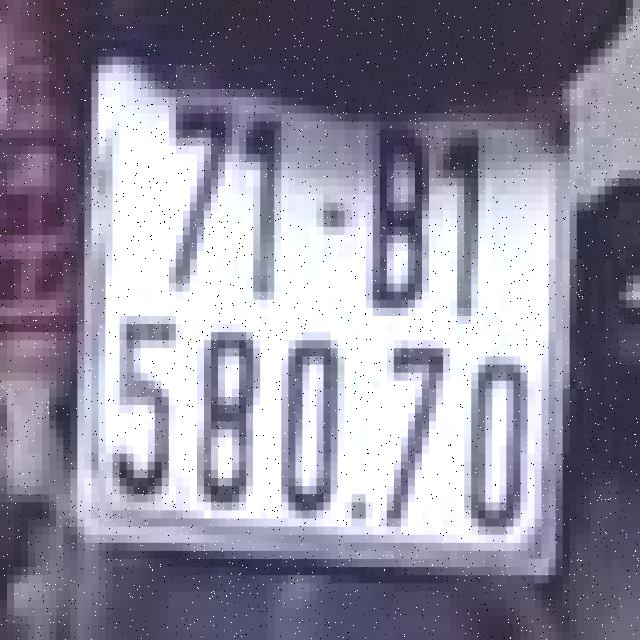0: (457, 344, 535, 531), (274, 320, 345, 514)
1: (432, 105, 496, 324), (235, 105, 292, 308)
5: (109, 296, 179, 514)
7: (155, 93, 232, 296), (383, 324, 447, 551)
8: (190, 312, 267, 531)
B: (362, 105, 440, 324)
